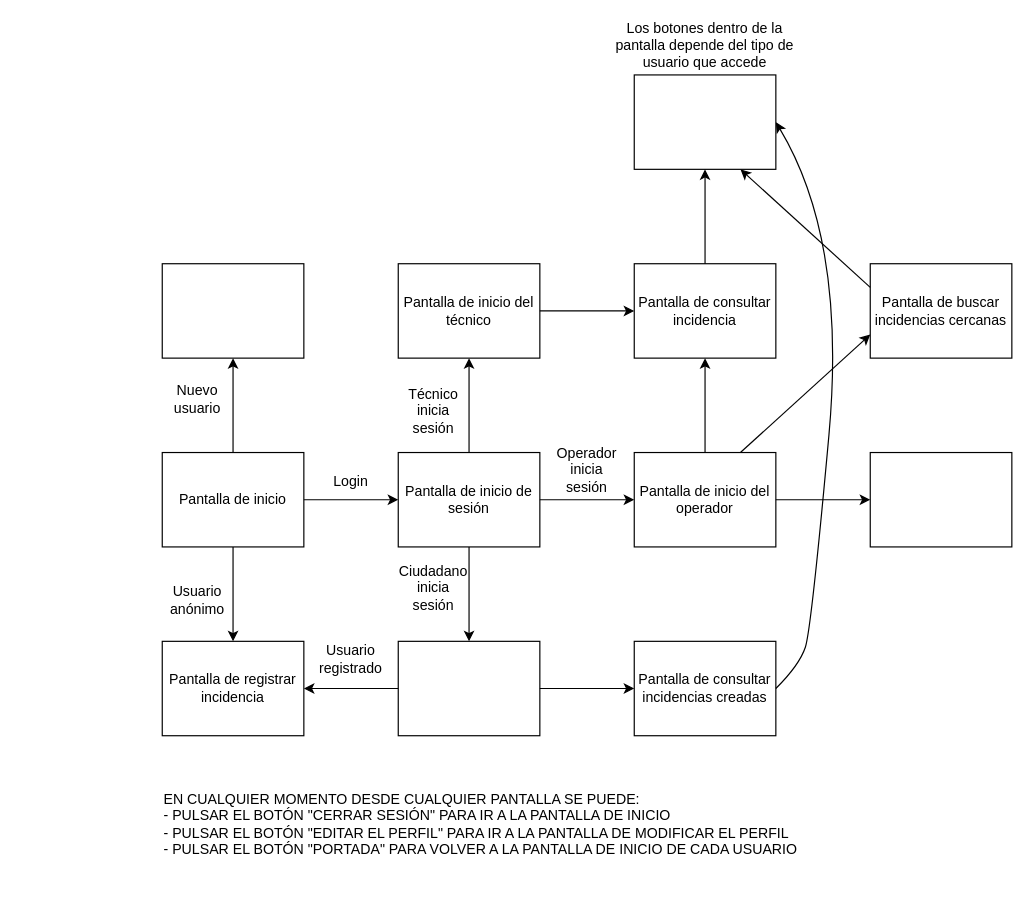
Some shapes in this 1033 by 910 pixel diagram are drawn without their labels. Here are the shapes that lost their labels. From the top down, the centre of each, then its label:
At point 704,121: "Pantalla de detalle de incidencia".
At point 232,310: "Pantalla de registrar usuario".
At point 940,499: "Pantalla de generar informe".
At point 468,688: "Pantalla de inicio del ciudadano".
